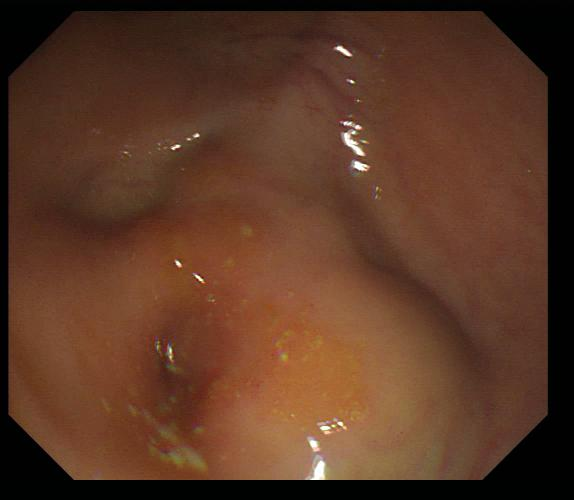polyp: (201, 266, 484, 478)
